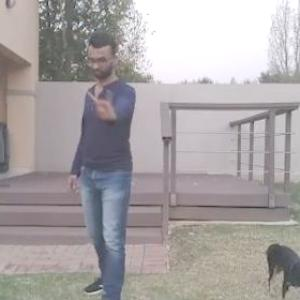takeoff-hand: (91, 82, 119, 126)
